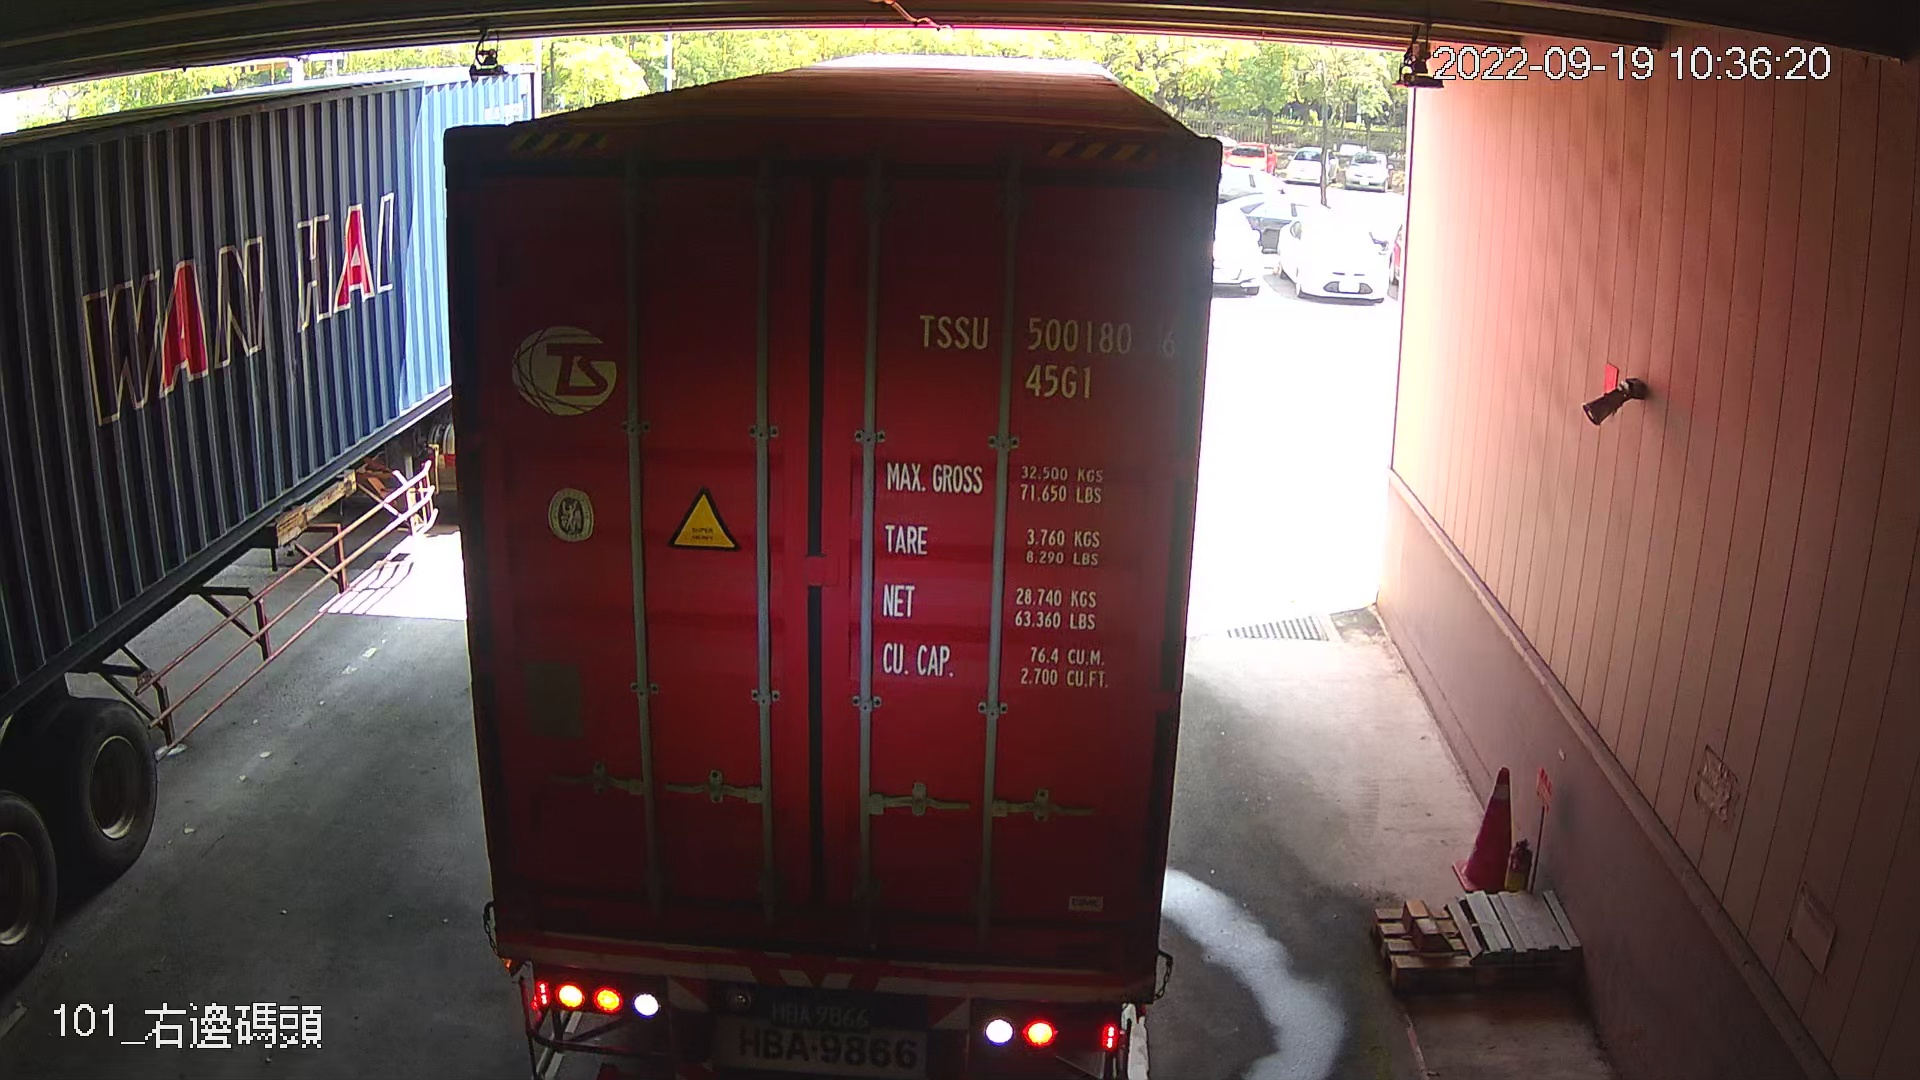container: (905, 295, 1187, 415)
